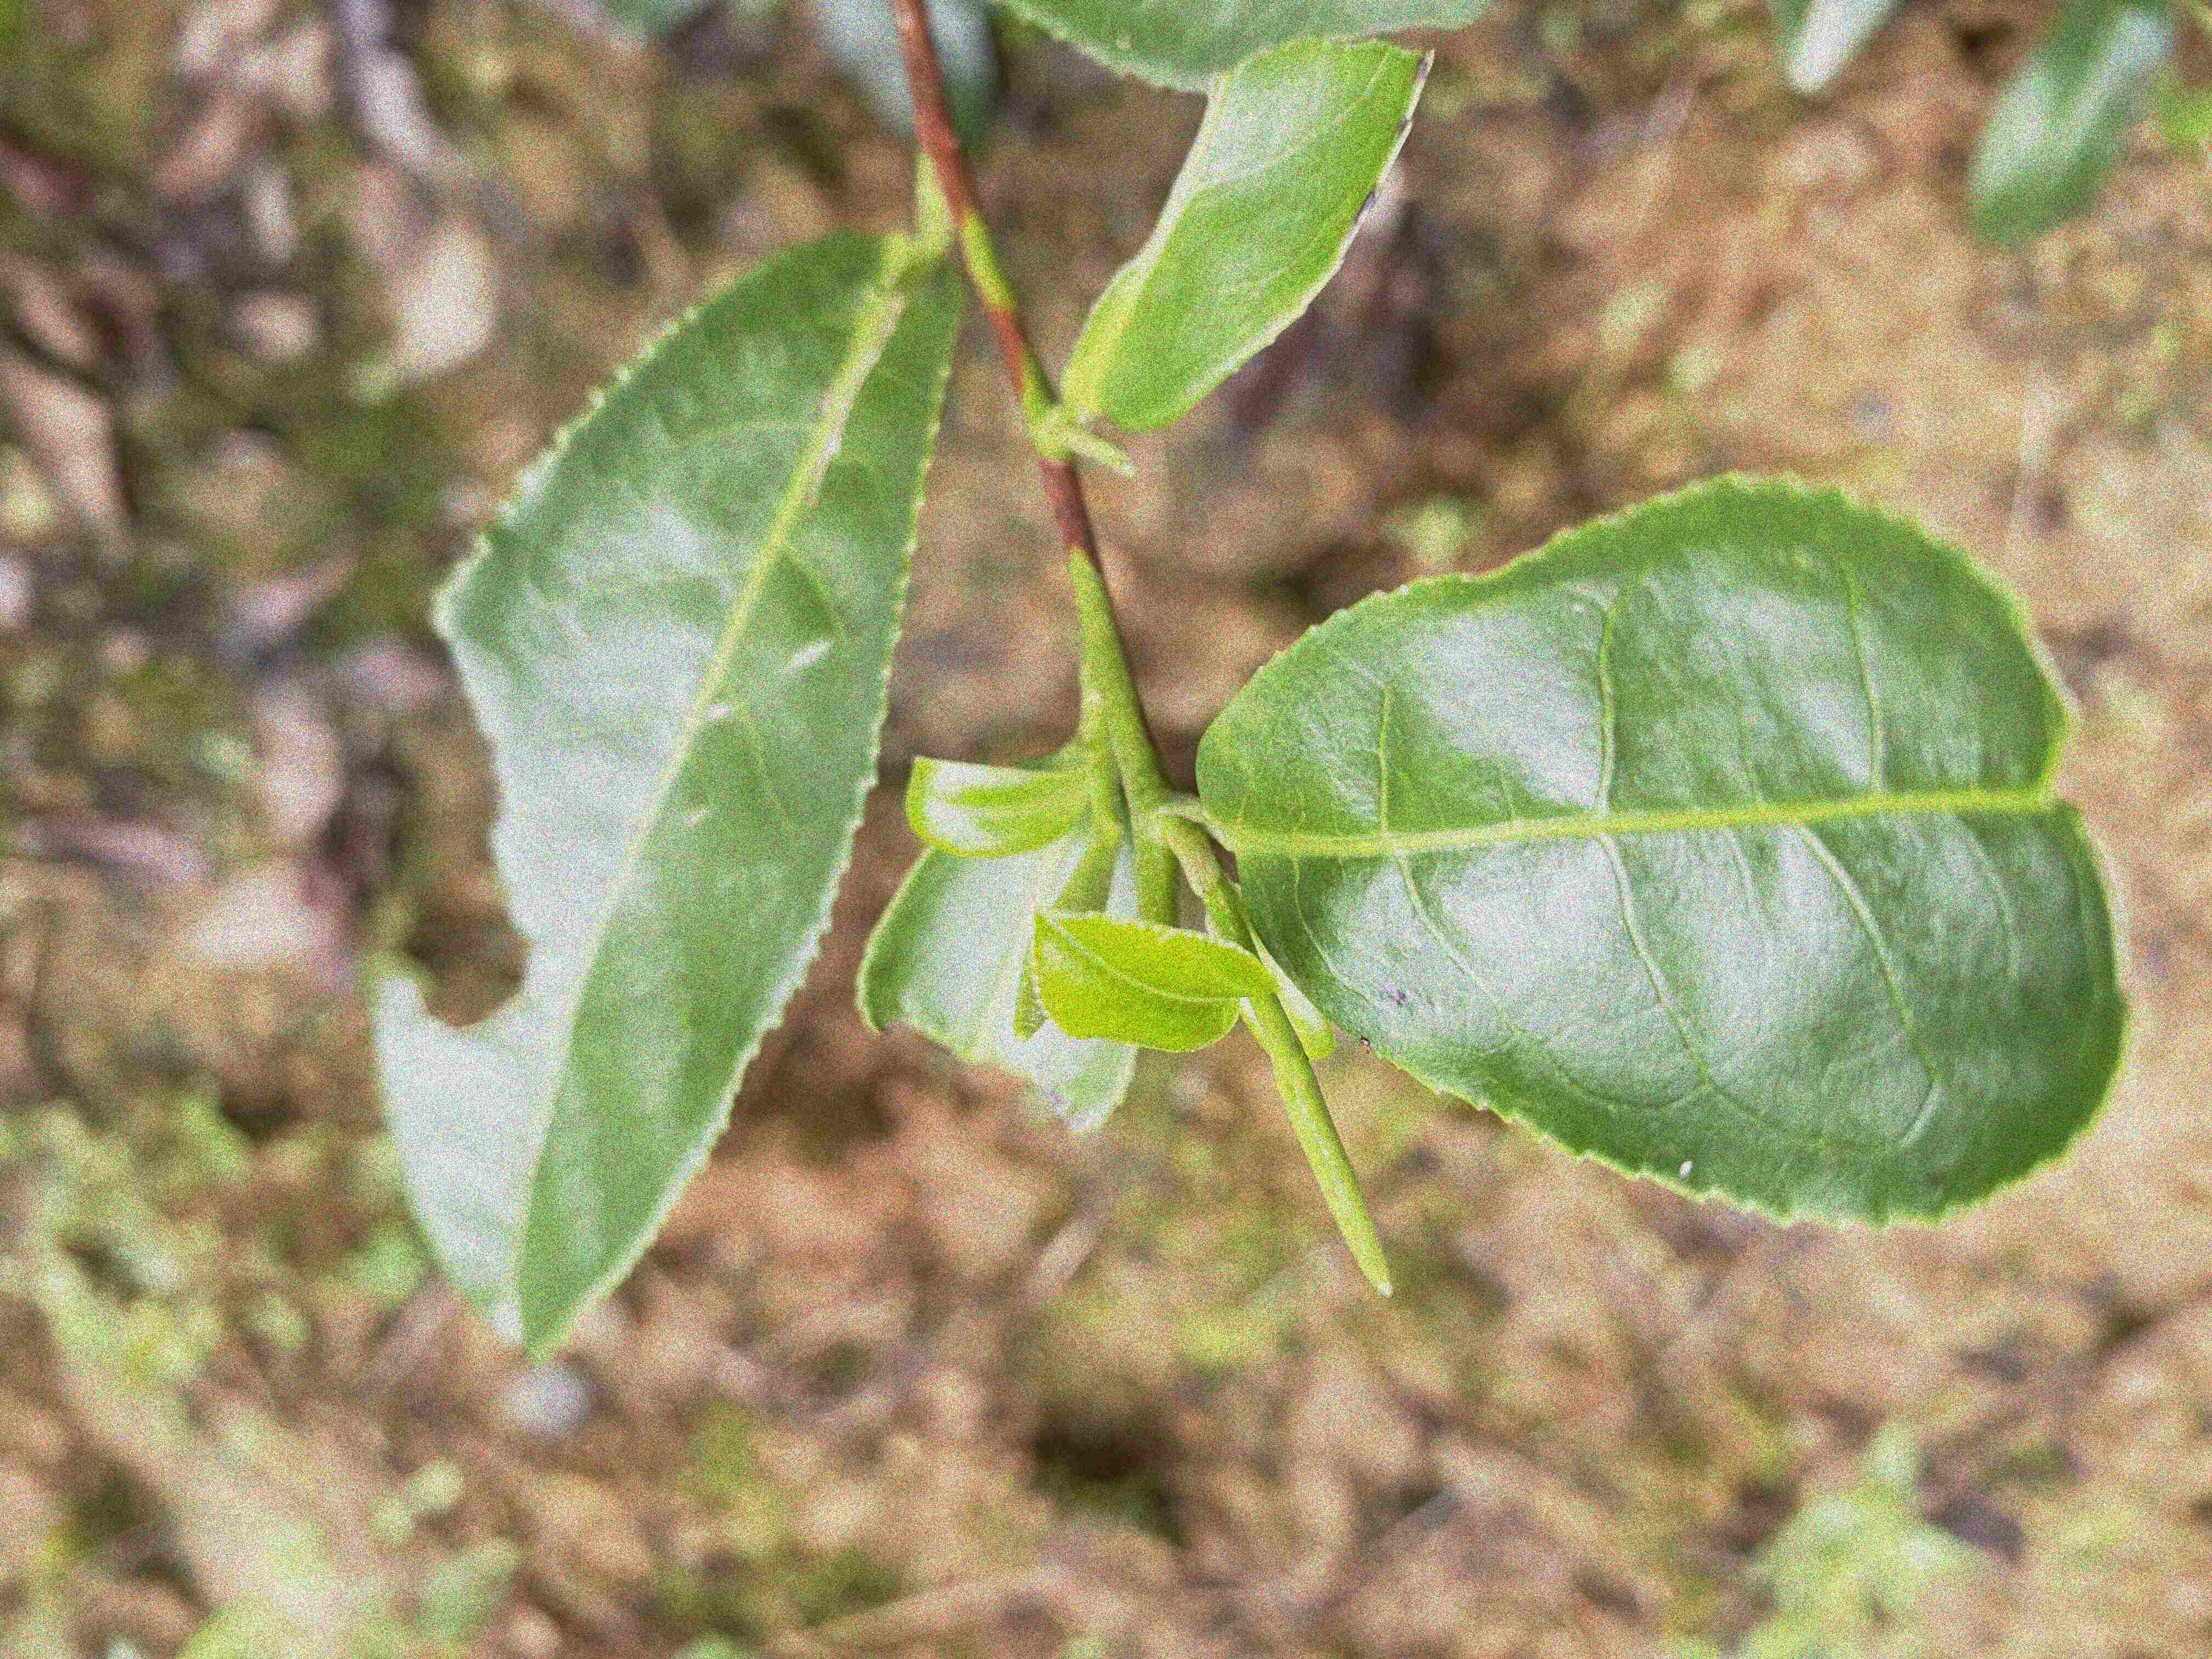chihuo_high: (1062, 33, 1439, 436), (852, 812, 1144, 1138)
chihuo_low: (374, 228, 965, 1359)
healthy: (1031, 903, 1282, 1054), (902, 753, 1089, 859)
tanju_low: (1197, 469, 2135, 1232)
